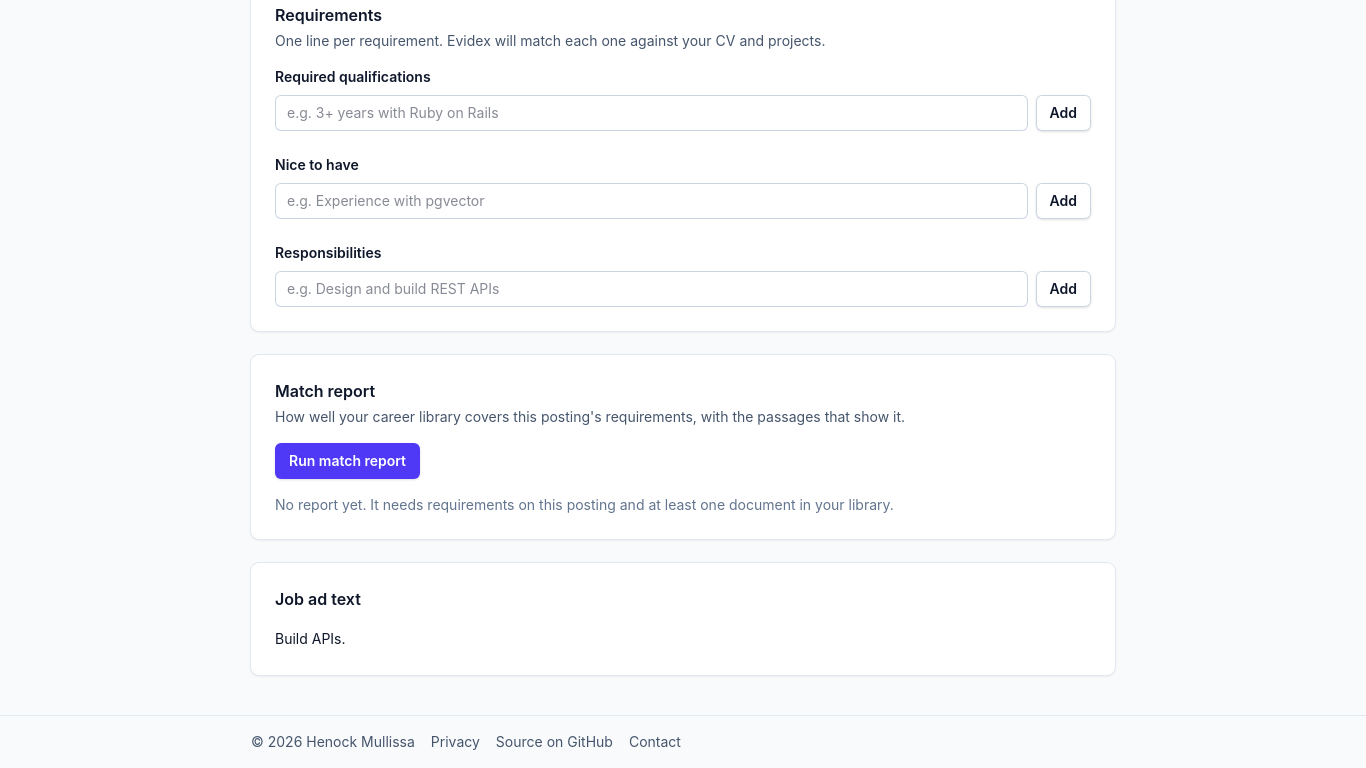
Test: Match report › explains why a report can not run
The width and height of the screenshot is (1366, 768).
(page scrolled)
Click the button "Run match report" at {"x": 348, "y": 461}, box x1=275 y1=443 x2=420 y2=479
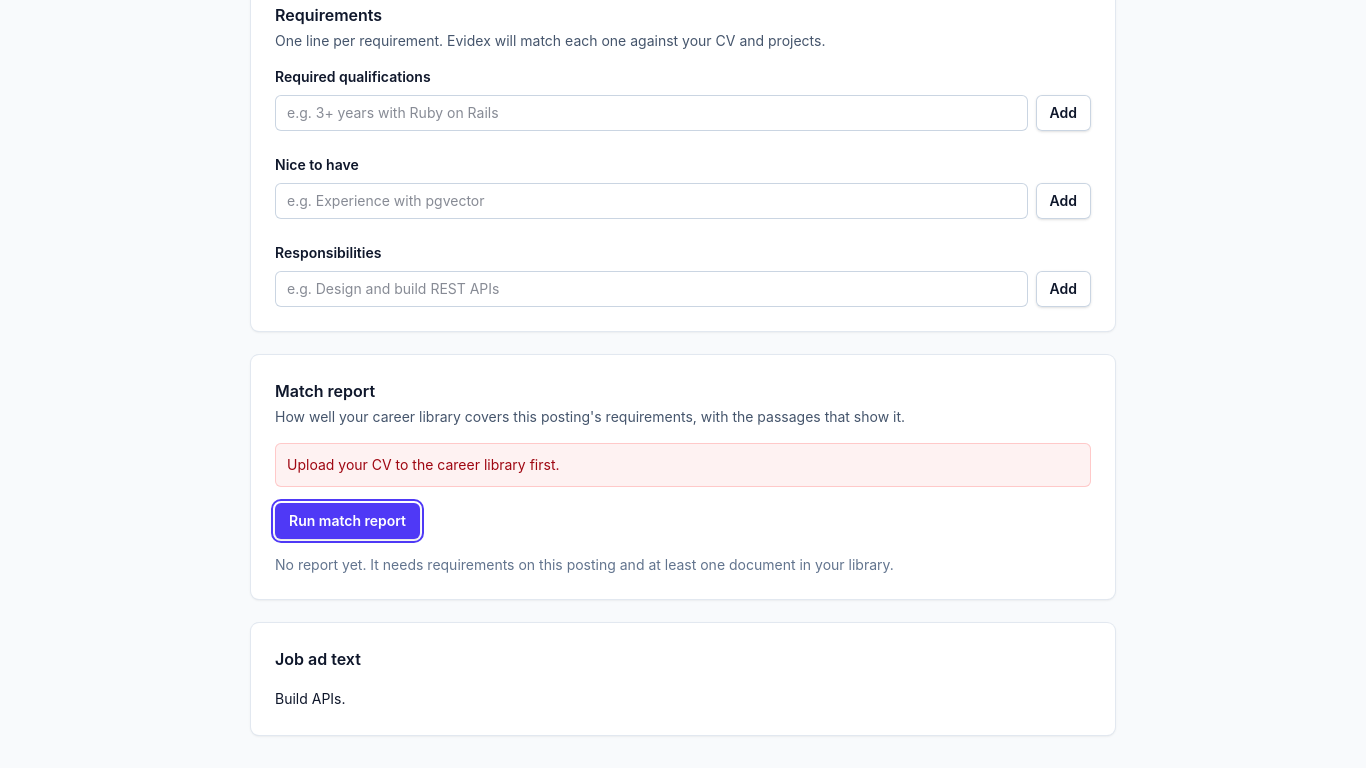
Now the text "Upload your CV to the career library first." is shown, box x1=275 y1=443 x2=1091 y2=487
